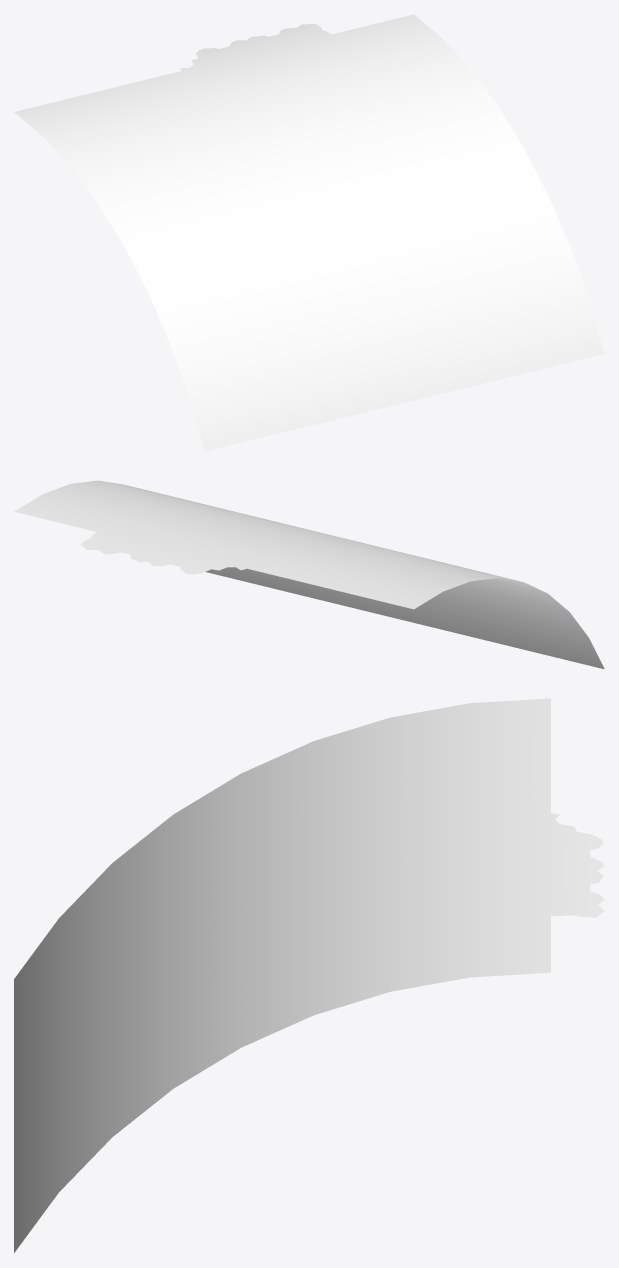
The model's file is grd_F_S_1.dae.
3 views of the same model, one above another, from view 1: azimuth 30°, elevation 25°; view 2: azimuth 150°, elevation 25°; view 3: azimuth 270°, elevation 25° (orthographic). The views are drawn at different scales.
Parts seen in each view (by area): view 1: grd_F_S_1; view 2: grd_F_S_1; view 3: grd_F_S_1.
Part boxes in pixels (bbox=[...]): grd_F_S_1: bbox=[14, 14, 604, 451]; grd_F_S_1: bbox=[14, 480, 604, 669]; grd_F_S_1: bbox=[14, 698, 604, 1252].
Bounding box in the file's own units: 512 × 244 × 466.
Materials: 2 (1 with a texture image).
